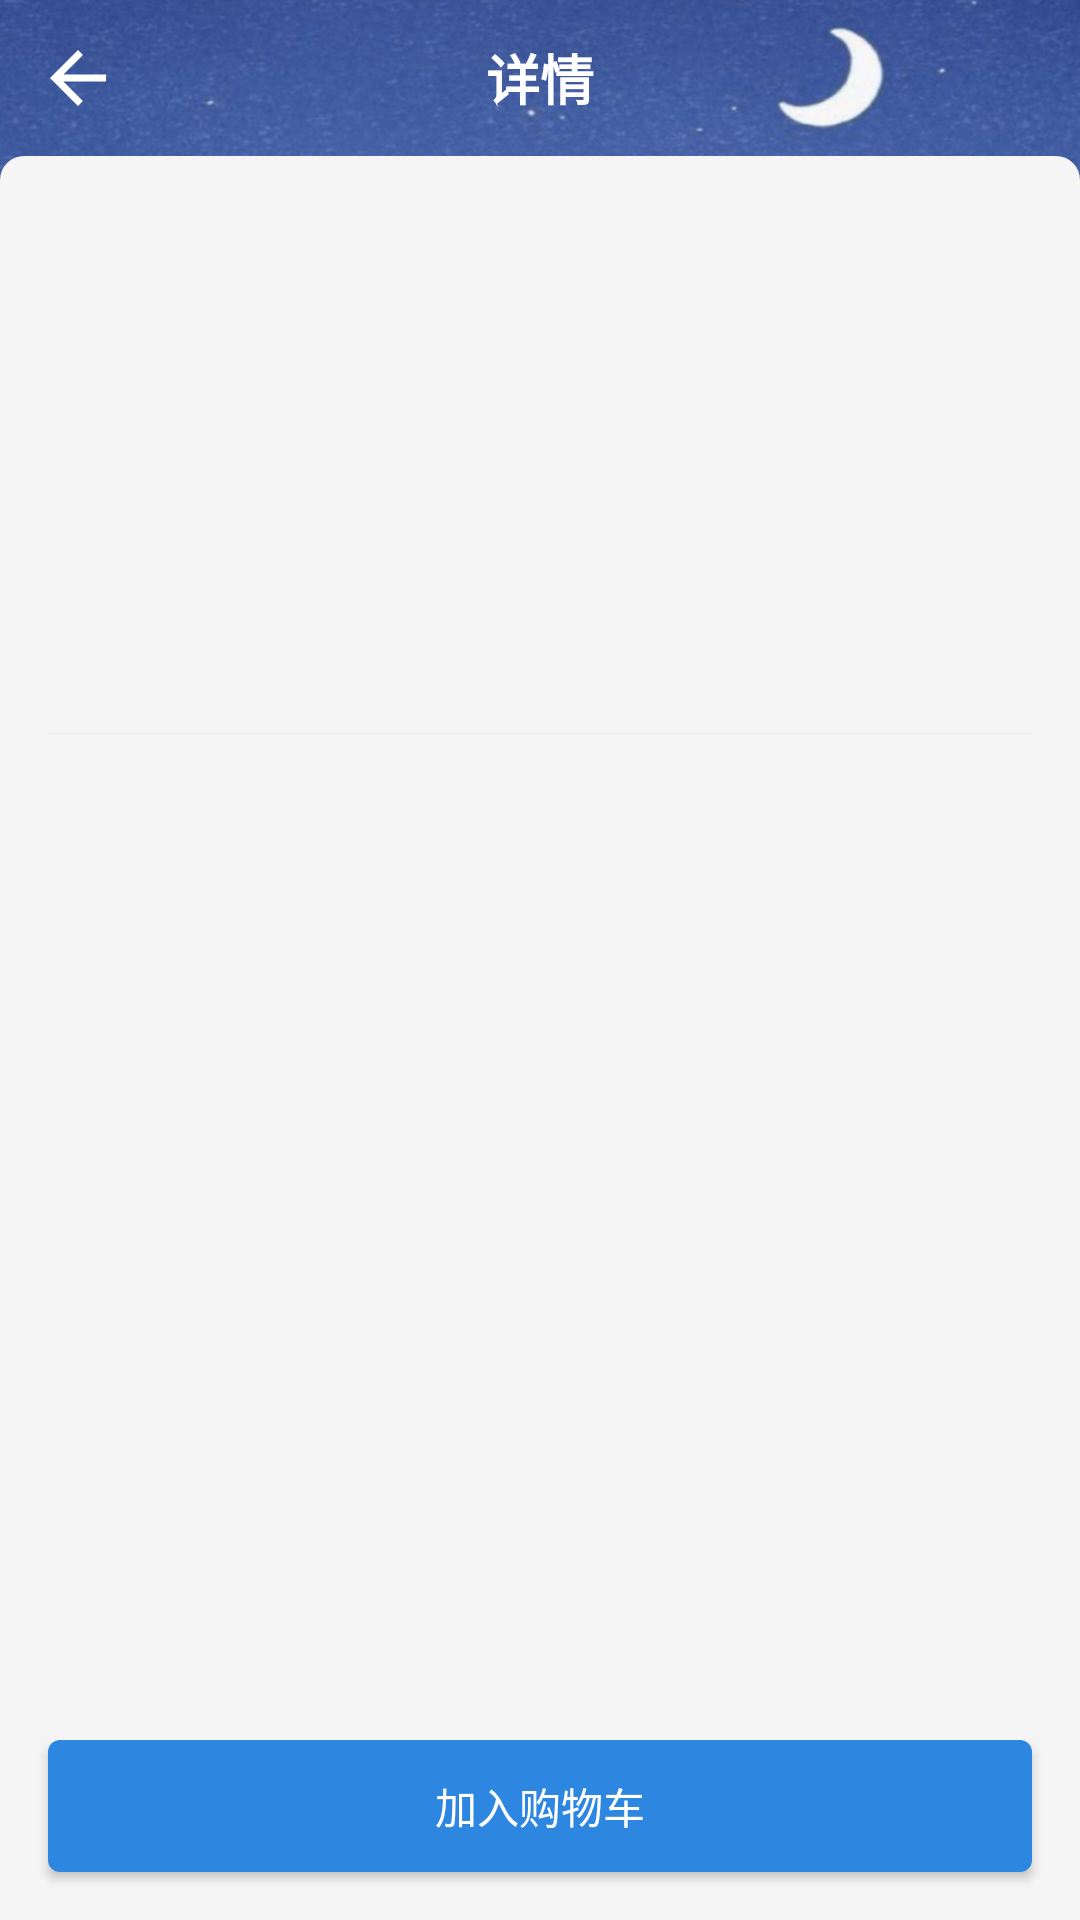

Icon click points for this 1080×1920 phone screenshot, format (x,y):
back: (78,78)
